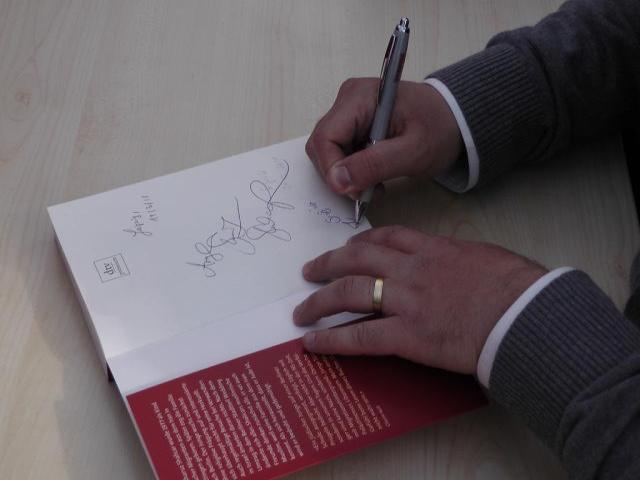PEN: (335, 9, 417, 238)
